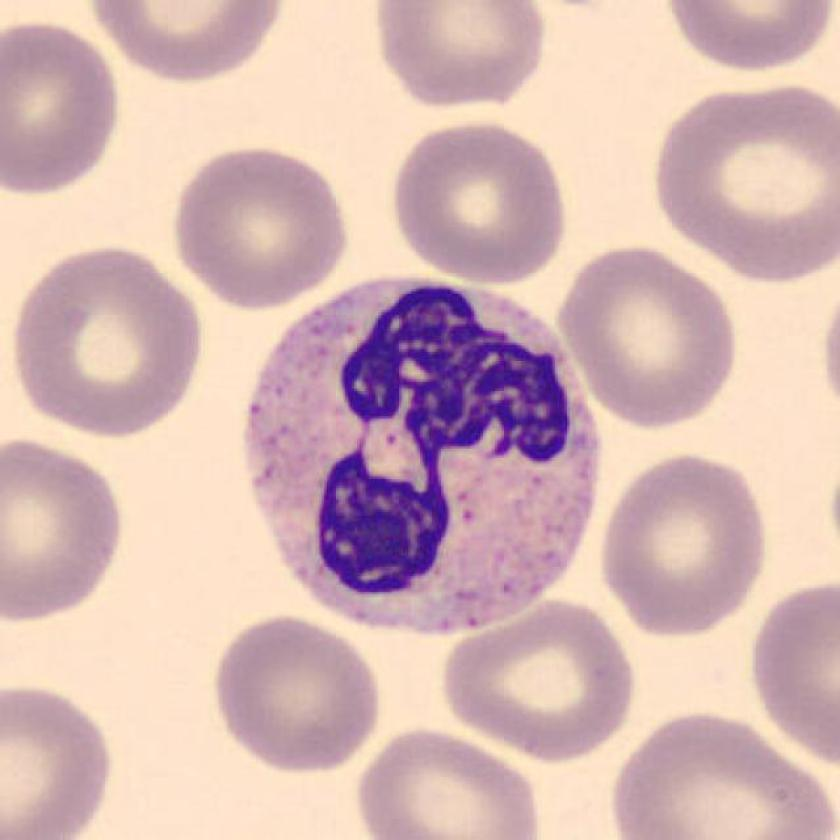neutrophil: (248, 277, 597, 634)
